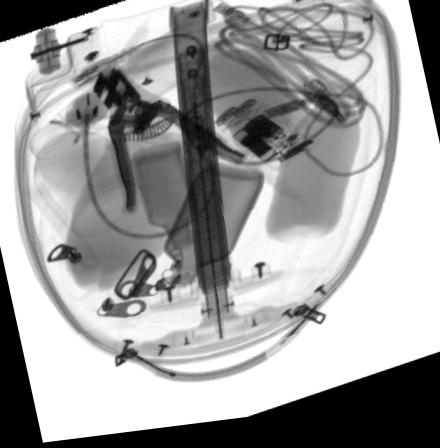Pliers: (88, 69, 249, 216)
